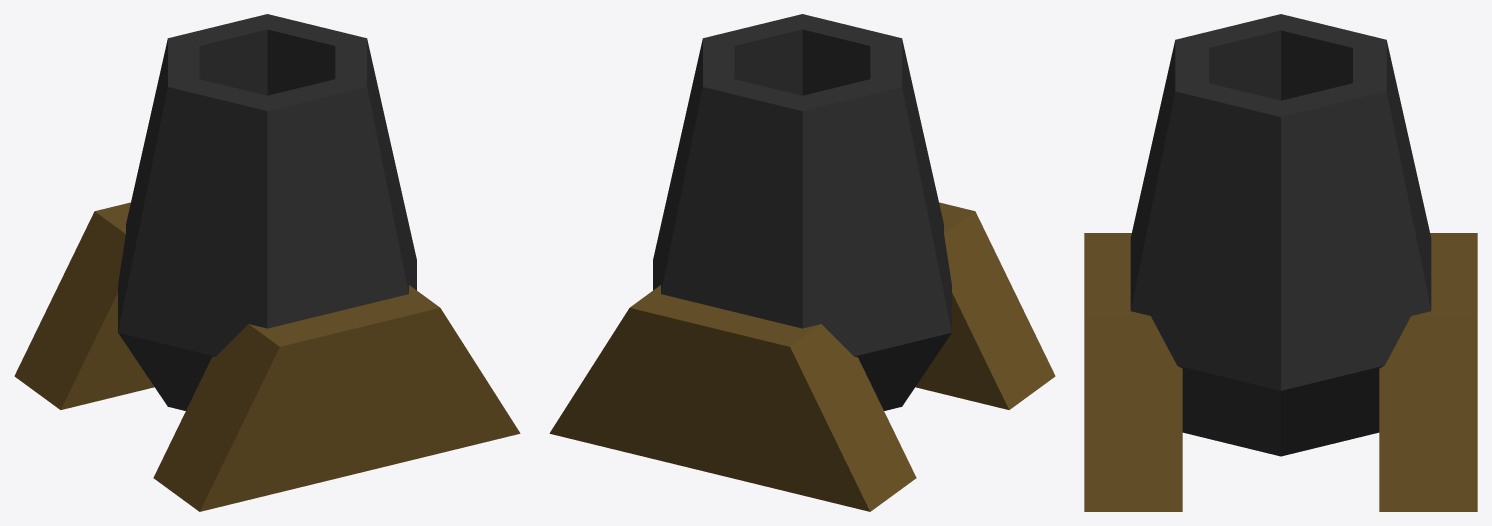
Rendered from Cannon.fbx.
3 renders of one model, left to right at view 1: azimuth 30°, elevation 25°; view 2: azimuth 150°, elevation 25°; view 3: azimuth 270°, elevation 25°, orthographic. The views are drawn at different scales.
Parts seen in each view (by area): view 1: pCylinder1, pCylinder4; view 2: pCylinder1, pCylinder4; view 3: pCylinder1, pCylinder4.
Boxes of the visible parts, <box> form: pCylinder1: <box>118,14,416,410</box>; pCylinder4: <box>14,202,520,511</box>; pCylinder1: <box>653,14,951,410</box>; pCylinder4: <box>549,202,1055,511</box>; pCylinder1: <box>1130,14,1431,456</box>; pCylinder4: <box>1084,233,1477,511</box>.
Size of the model in its own units: 0.2 by 0.2038 by 0.2.
